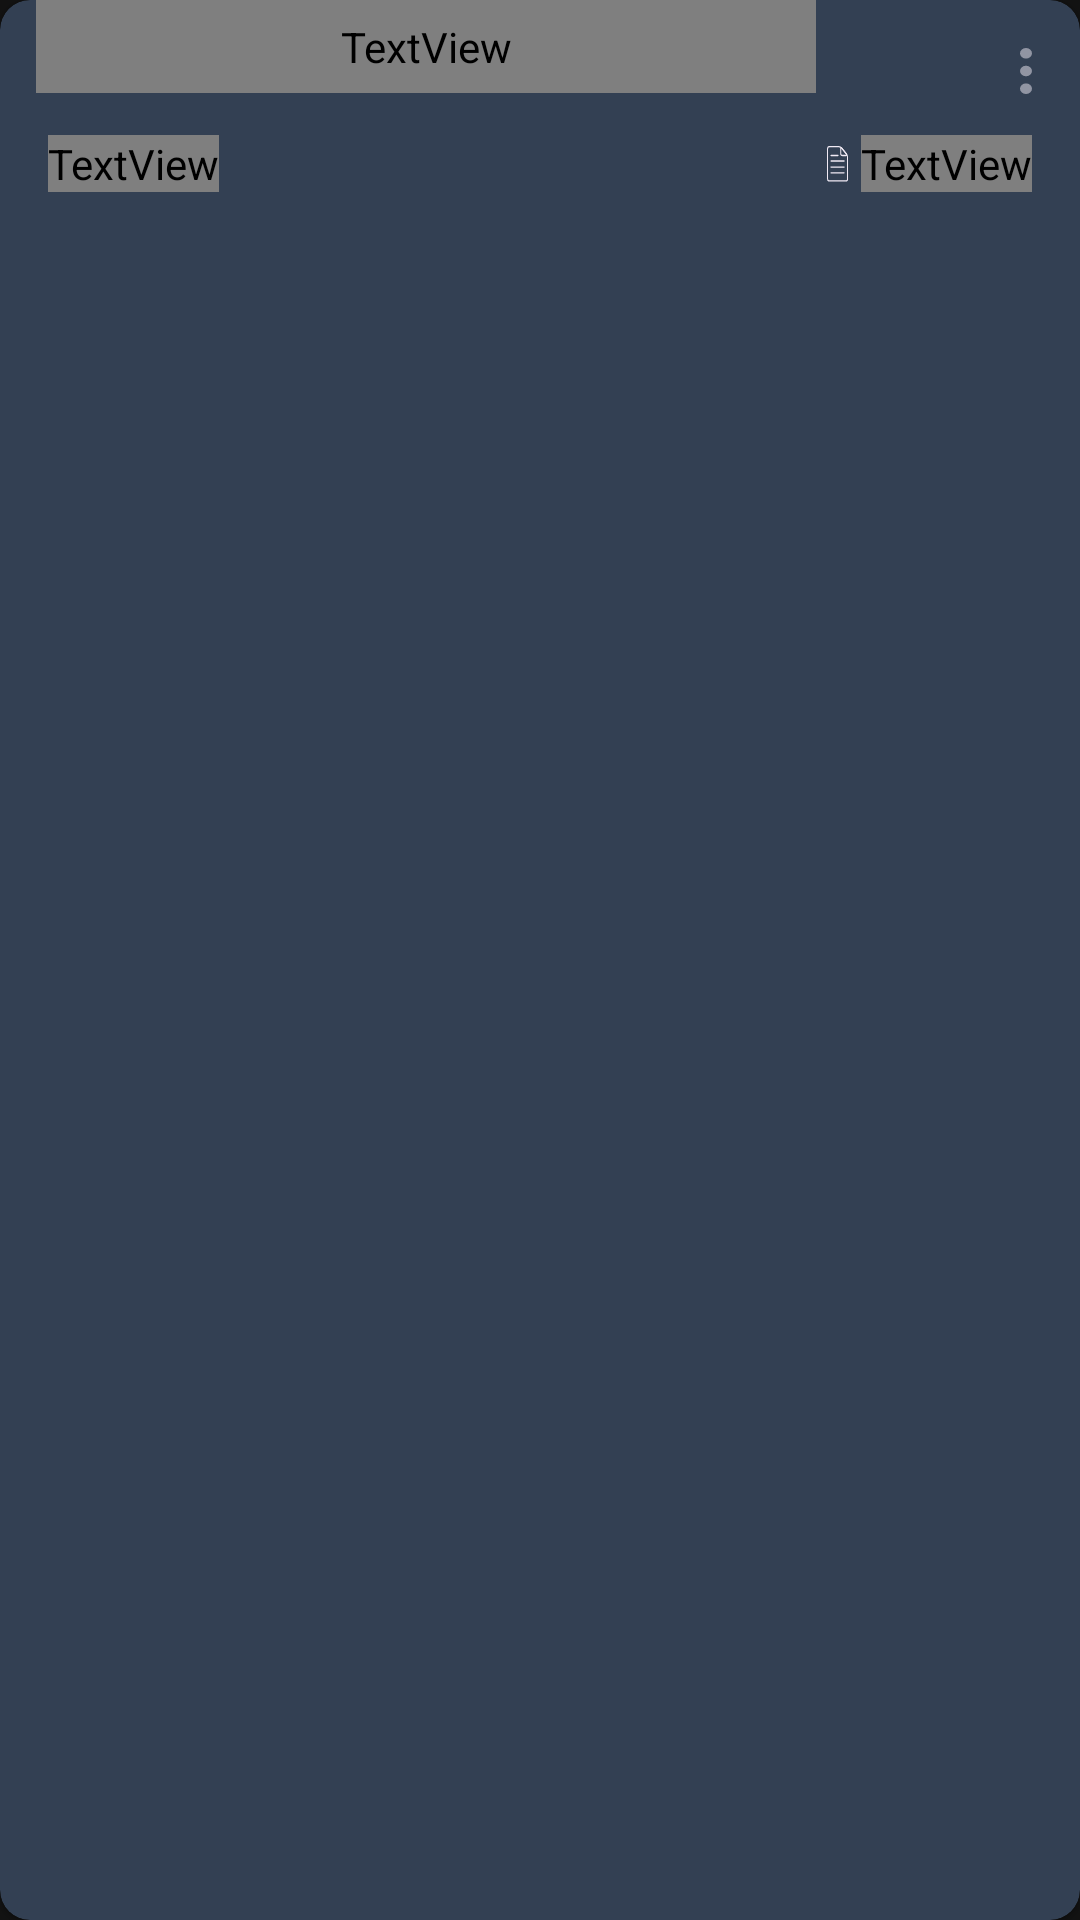

Locate icon controls on the screen. Image size 1080×1920, boxes as detection(x1, y1, x2, y2).
file: detection(827, 146, 848, 182)
